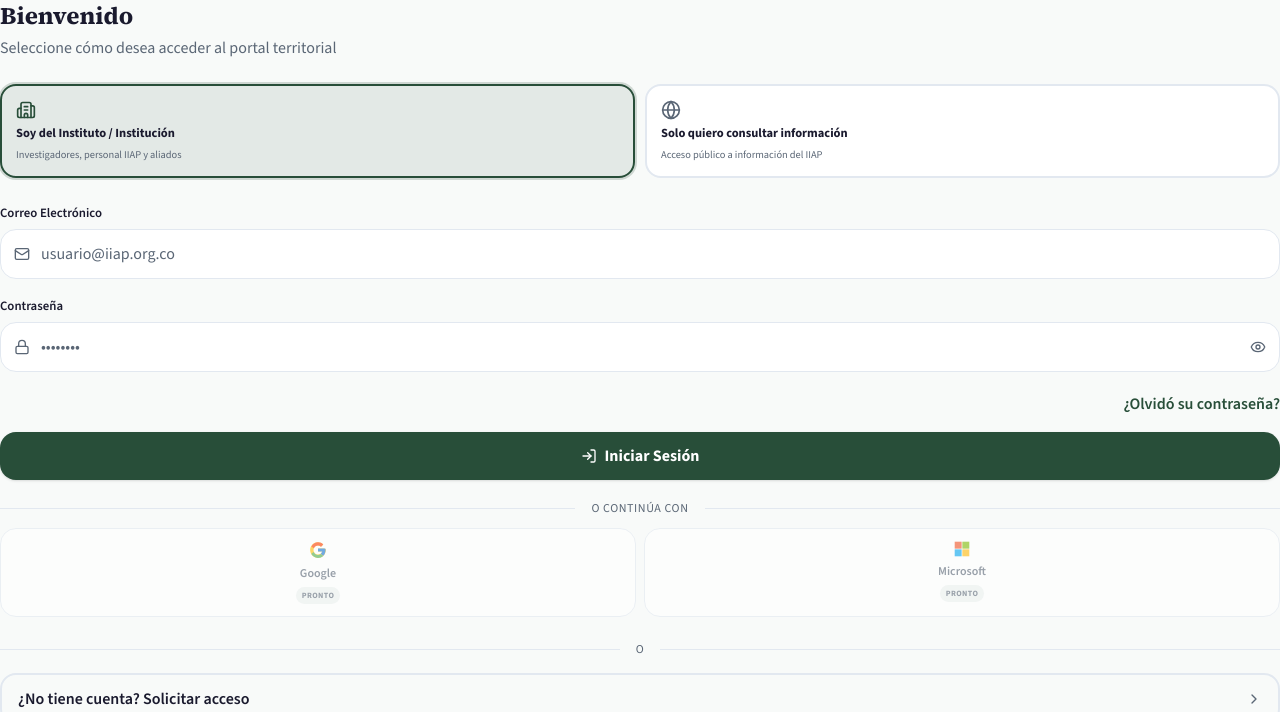
it: LoginForm — resultados especiales › un login fallido muestra el mensaje de error del servidor
Type "user@iiap.gov.co" into the field labelled "Correo Electrónico" at [640, 254], box [0,229,1279,279]
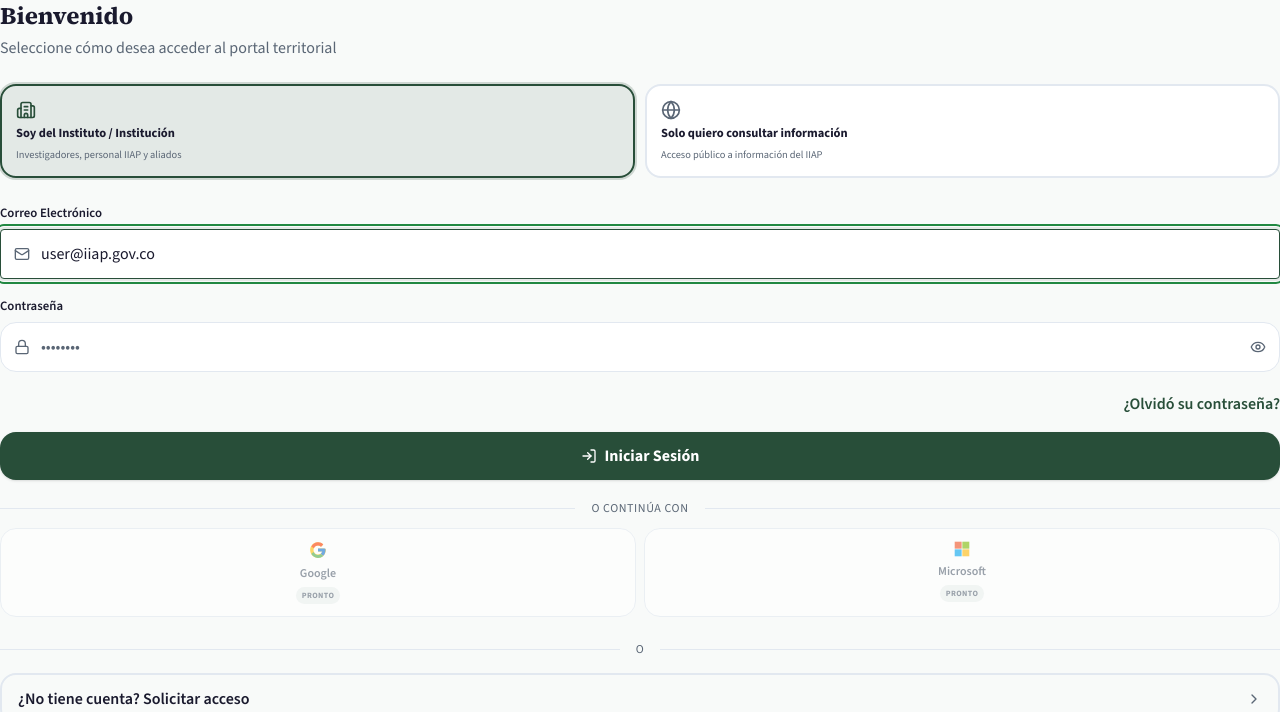
Type "wrongpass" into the password field labelled "Contraseña" at [640, 347], box [0,322,1279,372]
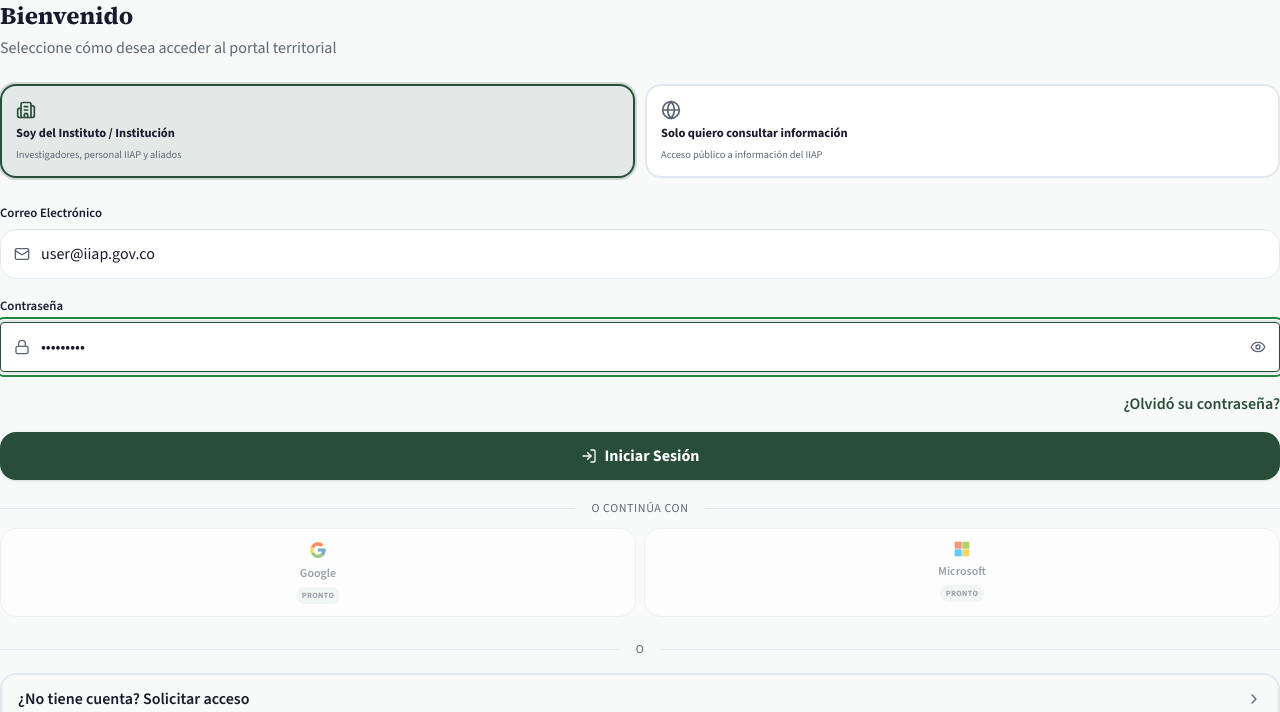
Click the button "Iniciar Sesión" at [640, 456], box [0,432,1279,480]
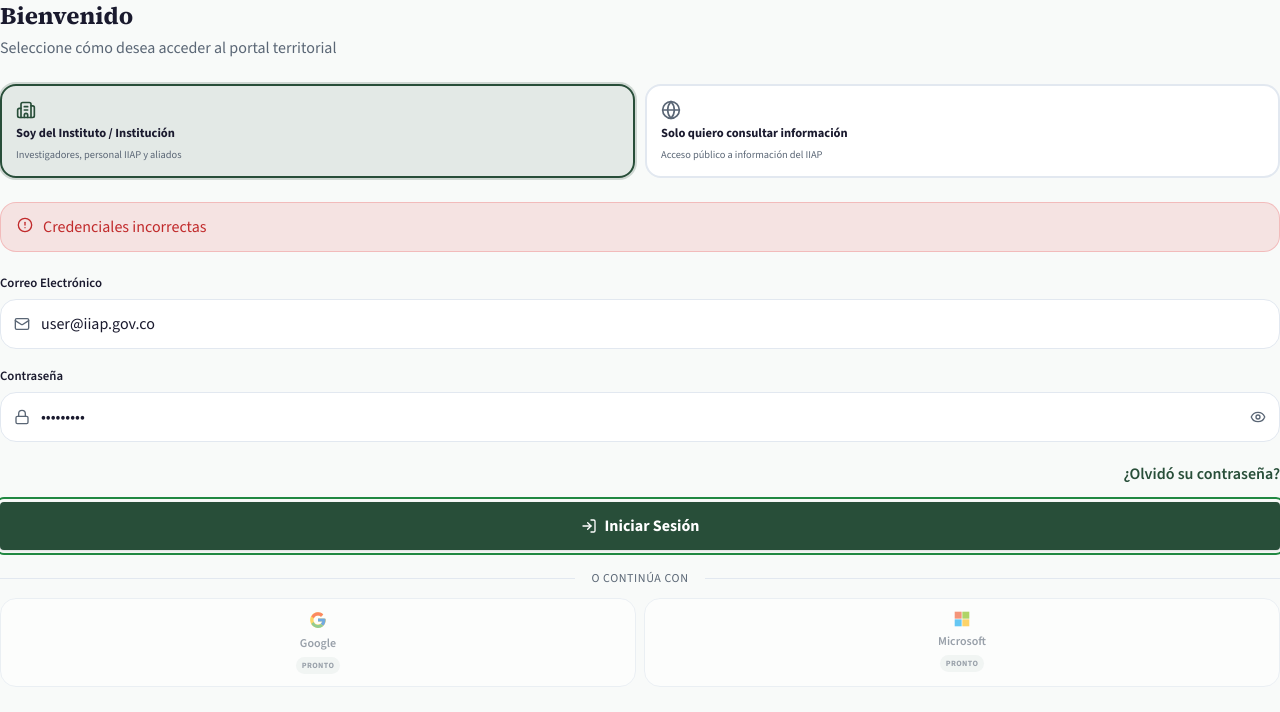
Now the text "Credenciales incorrectas" is shown, box [43,215,206,239]
